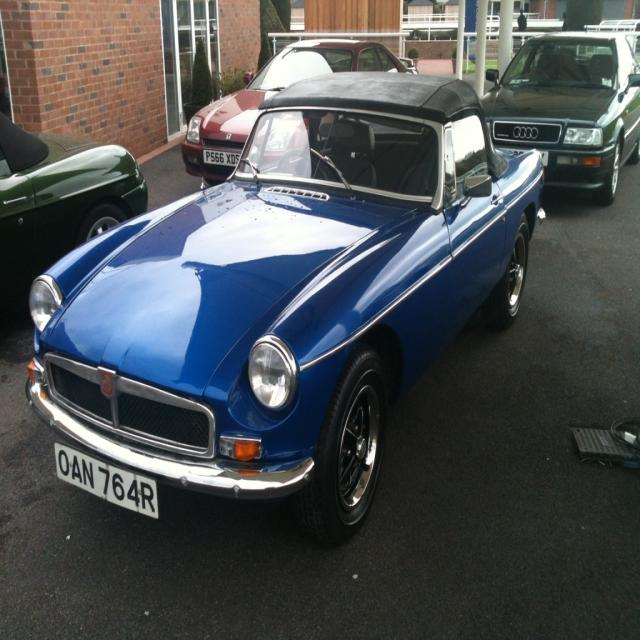car: (24, 69, 550, 543)
